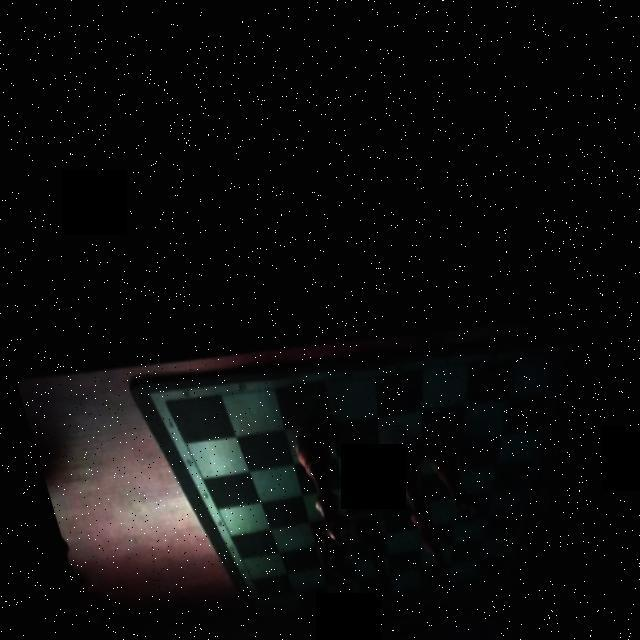chess-table-corners: (148, 382, 176, 412), (545, 334, 570, 359), (491, 548, 513, 574), (252, 602, 272, 626)
